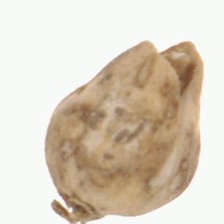L1: (141, 35, 200, 91), (46, 190, 111, 224)
L2: (42, 38, 204, 223)
